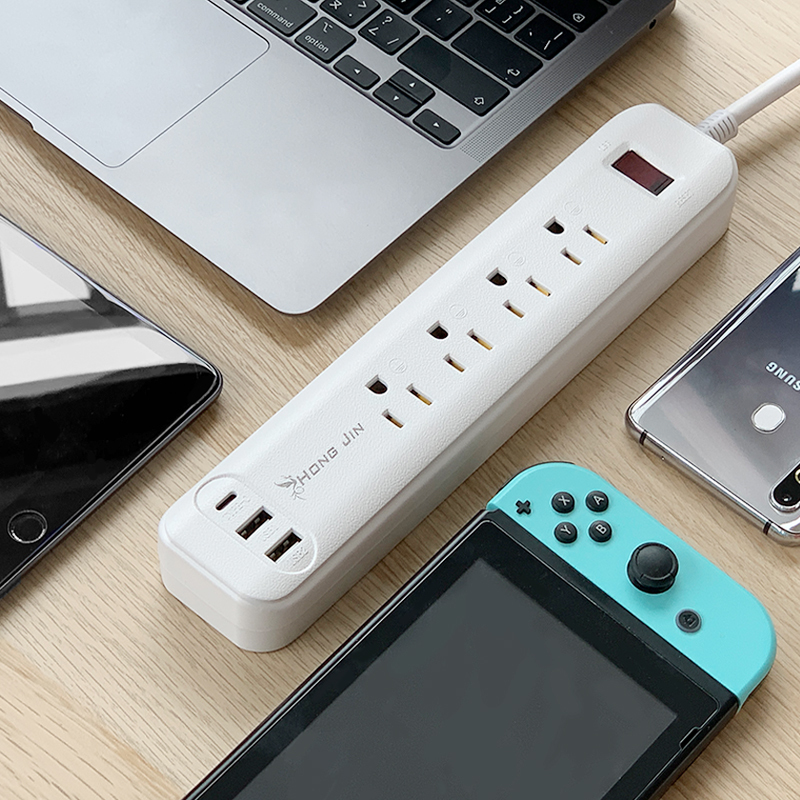socket: (157, 103, 742, 654)
